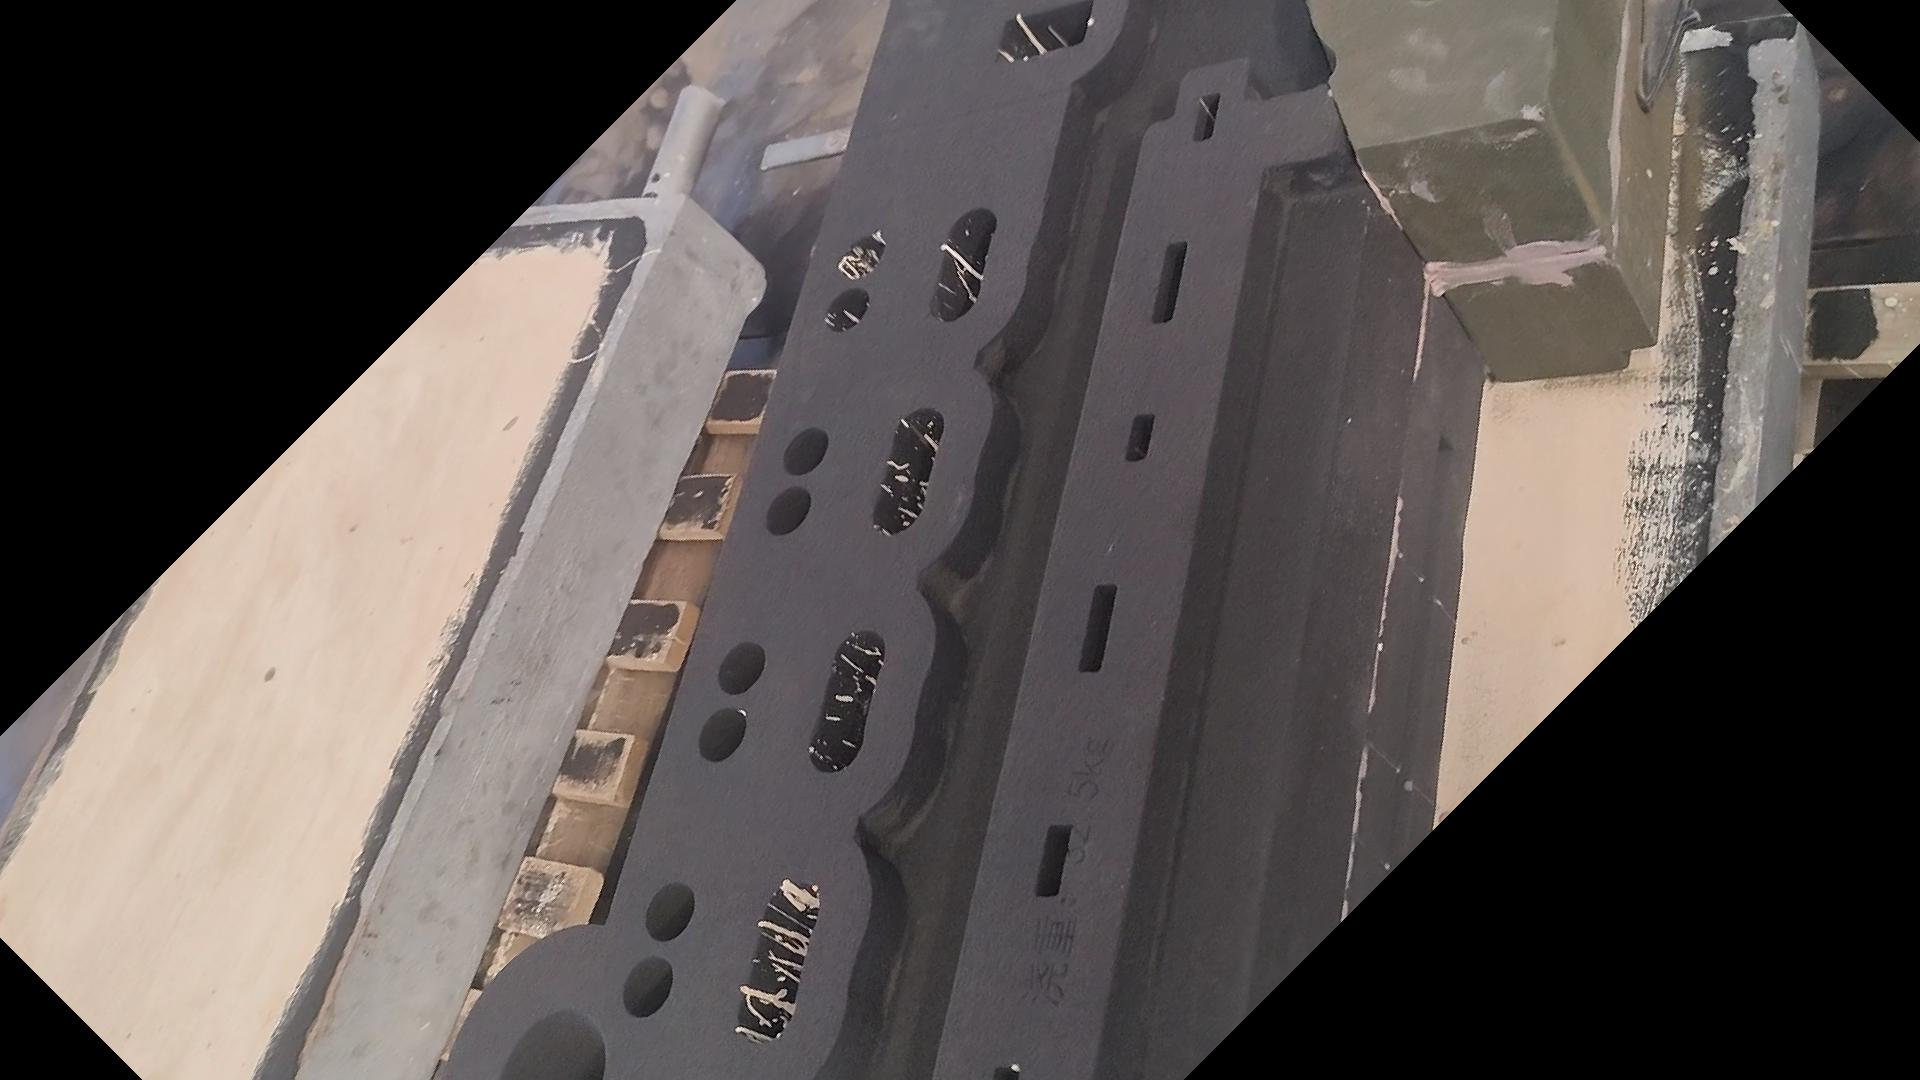pouring hole: (495, 1007, 607, 1080)
